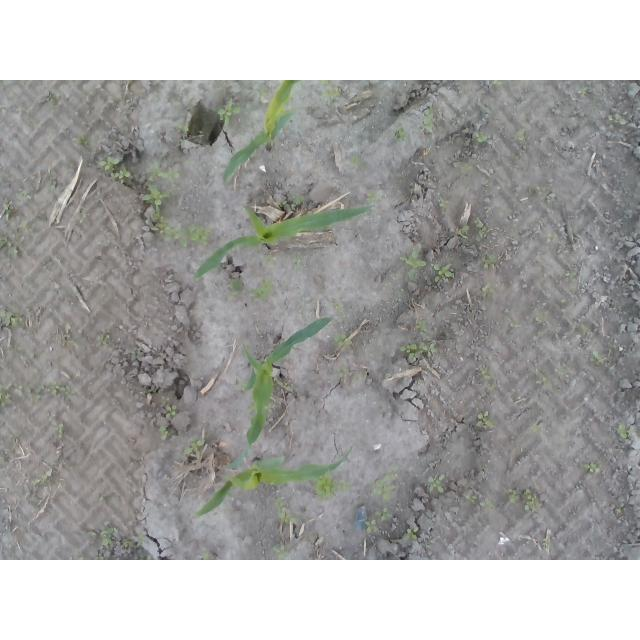Maize: (191, 448, 353, 521), (193, 207, 367, 272), (244, 316, 332, 444), (222, 80, 304, 186)
Weeds: (146, 205, 210, 247), (207, 95, 257, 122), (313, 470, 351, 502), (372, 463, 400, 502), (94, 156, 131, 184), (143, 158, 184, 182), (505, 488, 543, 513), (272, 496, 304, 525), (398, 247, 426, 280), (534, 367, 567, 393), (401, 342, 440, 363), (142, 182, 171, 207), (247, 277, 273, 303), (14, 383, 46, 401), (49, 381, 80, 399), (426, 473, 448, 496), (1, 231, 20, 257), (416, 105, 433, 133), (434, 262, 455, 282), (183, 438, 206, 456), (319, 80, 341, 97), (230, 273, 246, 296), (471, 214, 486, 238), (475, 410, 495, 428), (272, 544, 293, 561), (0, 311, 18, 330), (100, 526, 117, 546), (51, 417, 66, 439), (174, 110, 189, 132), (350, 151, 368, 169), (618, 421, 635, 440), (471, 128, 490, 144), (574, 83, 594, 98), (375, 506, 393, 522), (0, 384, 12, 408), (480, 281, 496, 299), (482, 253, 498, 271), (160, 425, 177, 441), (513, 128, 529, 145), (335, 335, 353, 350), (528, 418, 545, 433), (591, 352, 605, 369), (478, 498, 496, 511), (164, 399, 177, 417), (393, 127, 408, 142), (334, 366, 352, 378), (576, 321, 590, 336), (582, 463, 601, 474), (255, 85, 271, 98), (456, 224, 470, 238), (291, 255, 301, 274), (113, 95, 132, 105), (364, 520, 378, 533), (47, 172, 56, 192), (532, 184, 547, 196), (96, 335, 112, 346), (16, 191, 33, 201), (416, 320, 429, 333), (403, 528, 417, 540), (291, 193, 305, 205), (545, 231, 560, 242), (260, 253, 273, 265), (533, 311, 547, 322), (608, 115, 625, 124), (479, 369, 491, 381), (46, 94, 57, 107), (463, 161, 477, 171), (76, 135, 89, 145), (4, 207, 12, 223), (563, 272, 577, 281), (466, 494, 478, 504), (366, 191, 376, 203), (510, 319, 522, 329), (136, 531, 144, 545), (19, 224, 33, 232), (122, 538, 133, 548), (335, 303, 346, 313), (395, 288, 402, 303), (615, 503, 625, 513), (283, 380, 294, 389), (438, 198, 448, 207), (94, 553, 106, 560), (200, 552, 209, 561), (32, 480, 43, 487), (544, 538, 551, 547), (134, 556, 146, 561), (241, 383, 247, 391)
